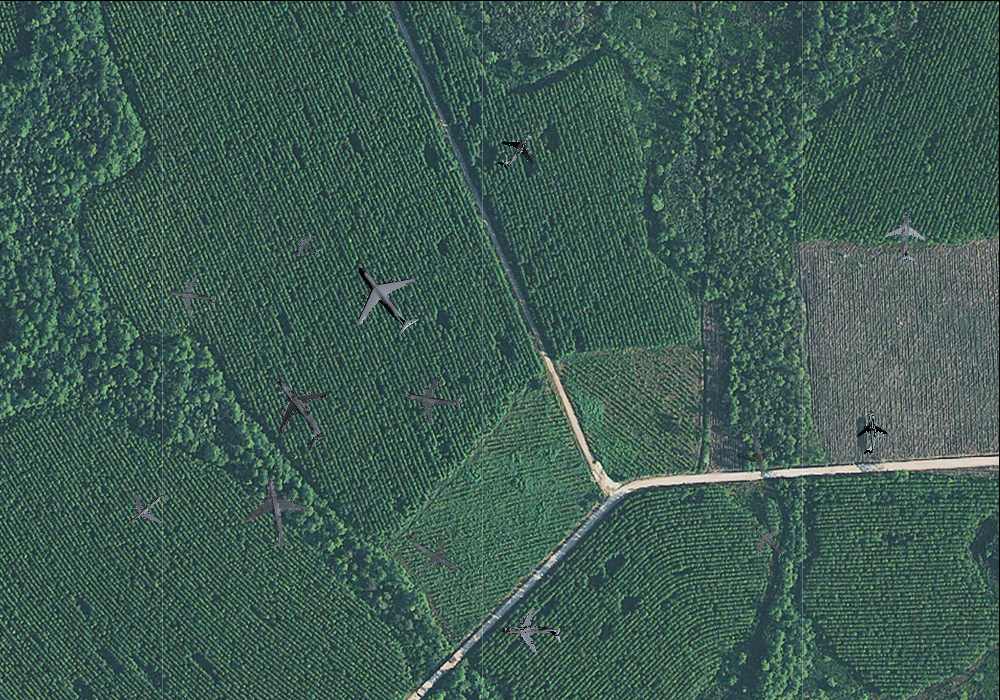plane: (330, 243, 438, 352), (248, 359, 350, 462), (234, 470, 315, 554), (394, 514, 472, 590), (400, 367, 466, 431), (486, 119, 547, 180), (115, 478, 176, 539), (728, 423, 786, 483), (501, 604, 562, 660), (163, 269, 220, 324), (741, 513, 796, 569), (881, 207, 933, 263), (850, 409, 890, 455), (285, 224, 326, 265)
